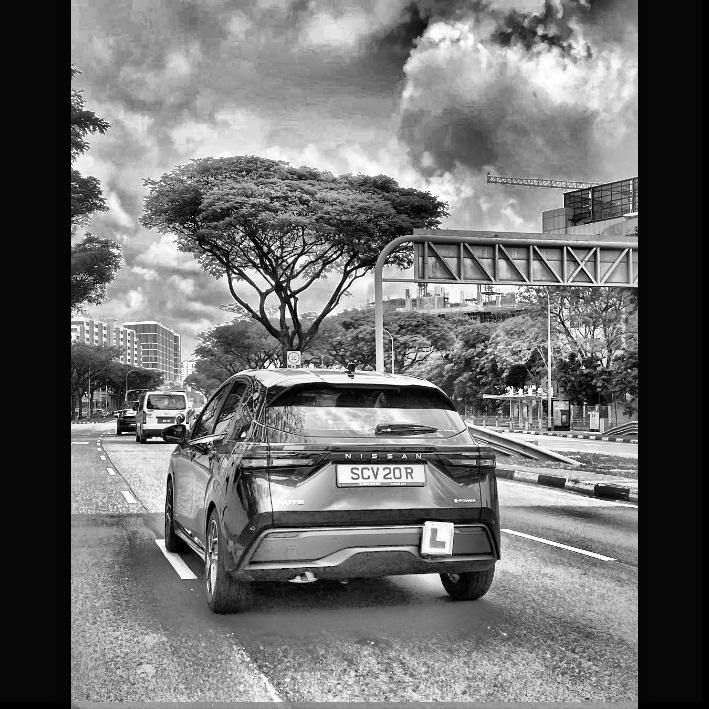License-Plates: (337, 465, 425, 483)
